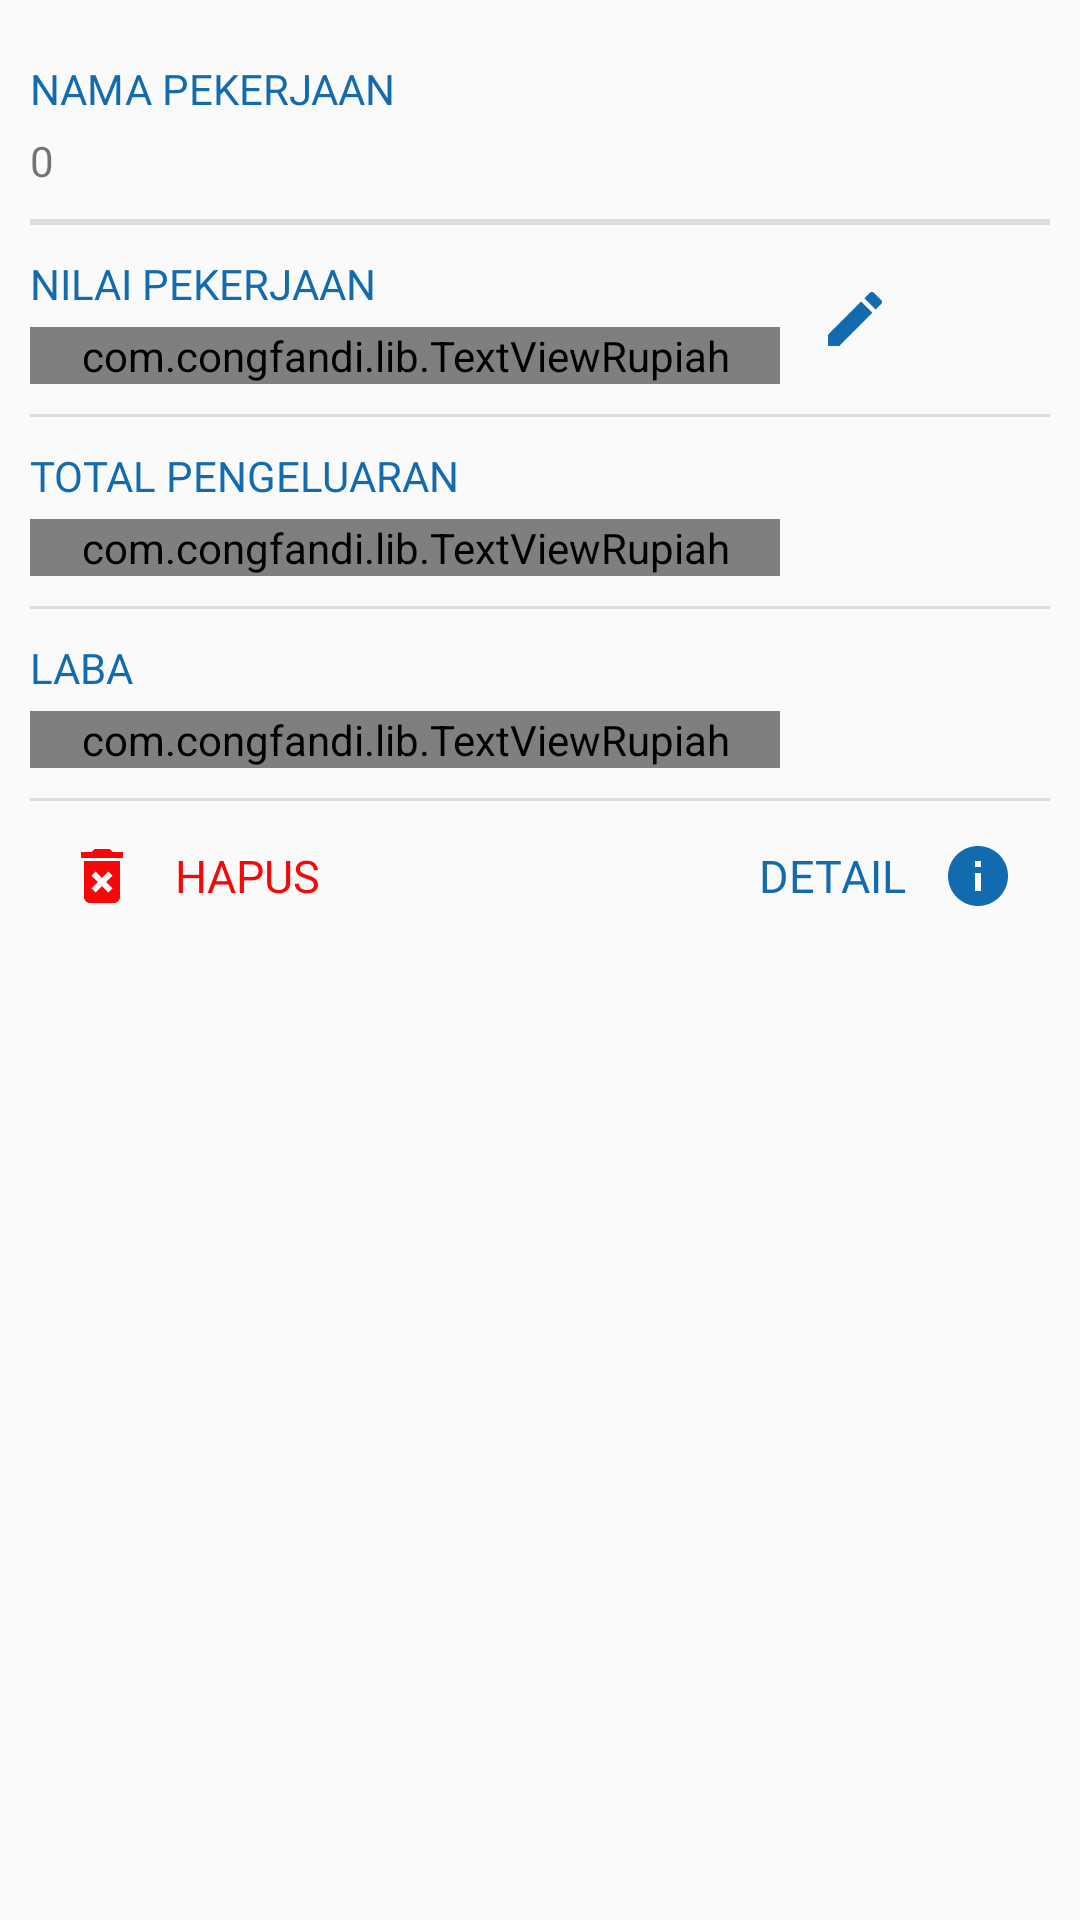

Icons on this 1080x1920 Android screen, each with its box as [x1, y1, x2, y2]:
delete: [81, 849, 123, 903]
edit: [828, 292, 882, 346]
